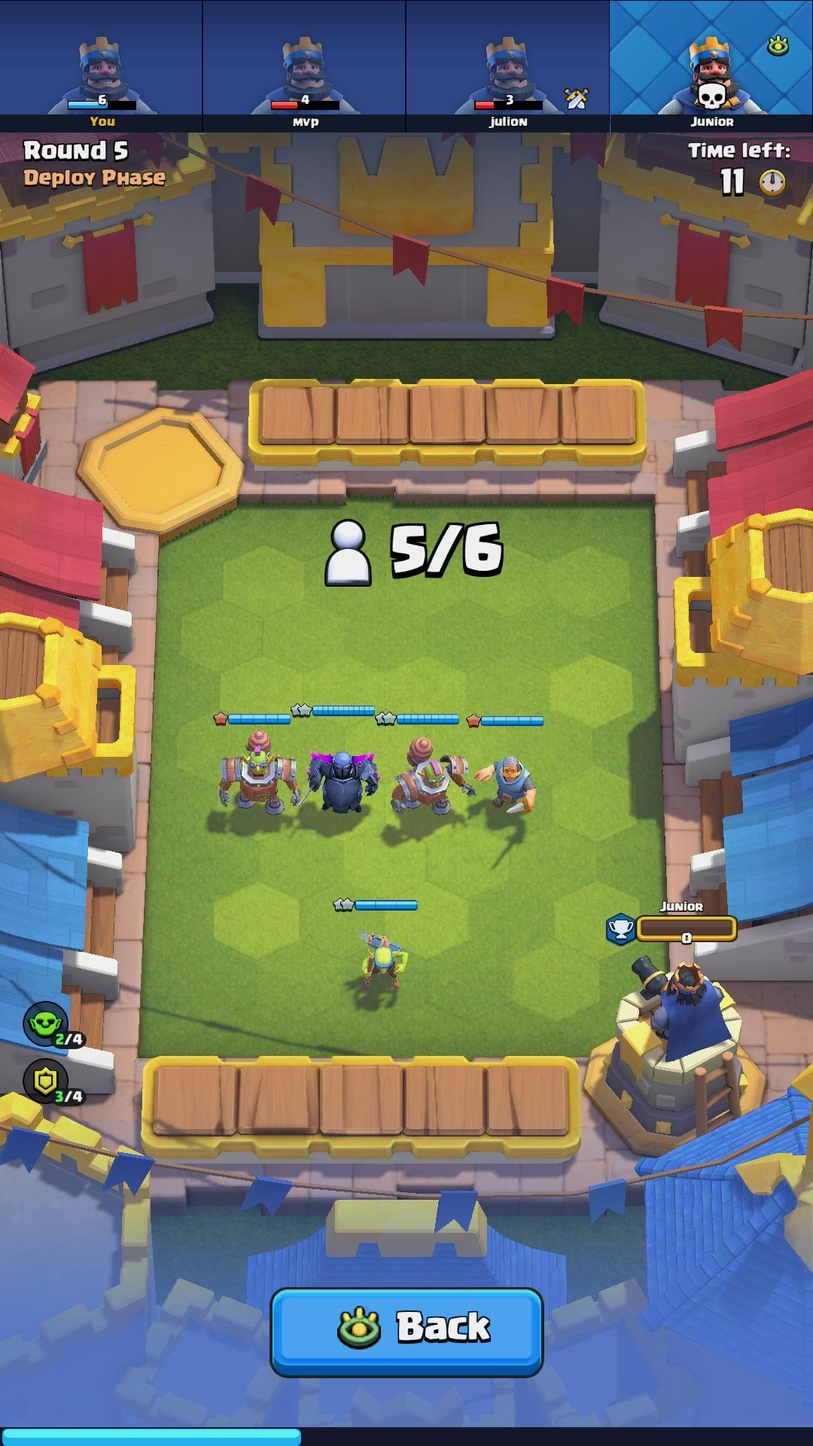knight: (475, 752, 538, 819)
machine: (224, 730, 297, 816), (400, 737, 472, 822)
pekka: (311, 740, 379, 816)
spear: (352, 925, 411, 992)
